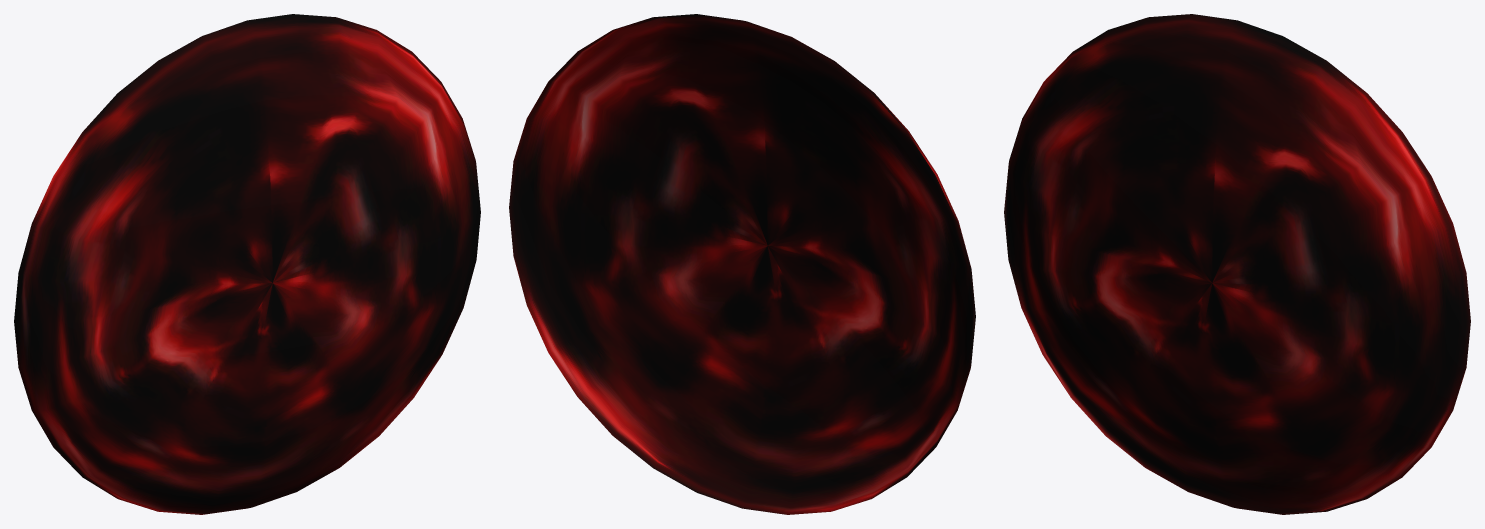
The model's file is hadisi_chuansongmen2.FBX.
3 views of the same model, side by side, from view 1: azimuth 30°, elevation 25°; view 2: azimuth 150°, elevation 25°; view 3: azimuth 330°, elevation 25° (orthographic).
Parts seen in each view (by area): view 1: hadisi_chuansongmen; view 2: hadisi_chuansongmen; view 3: hadisi_chuansongmen.
Boxes of the visible parts, x1,y1,x2,y2 form: hadisi_chuansongmen: (14,14,480,514); hadisi_chuansongmen: (509,14,975,514); hadisi_chuansongmen: (1004,14,1470,514).
Bounding box in the file's own units: 1148 × 1148 × 109.
